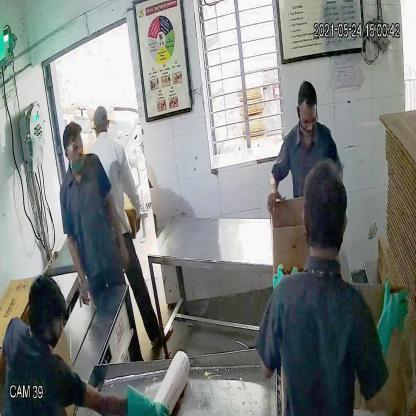goggles: (61, 138, 87, 156), (296, 108, 320, 127)
